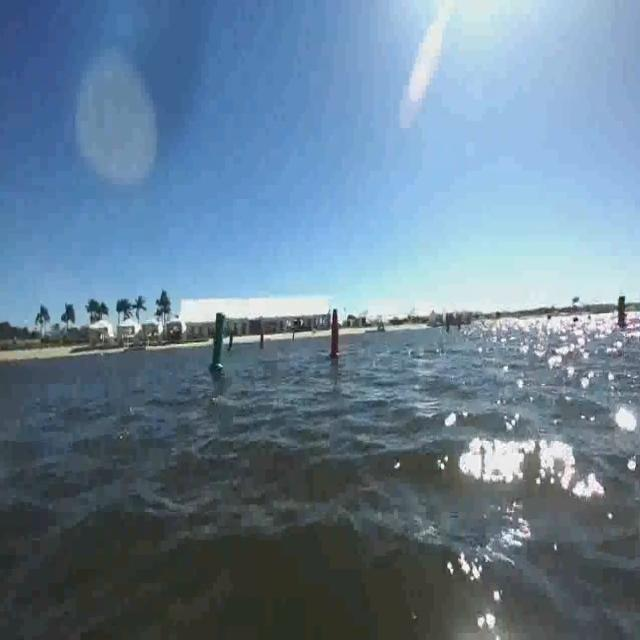green-column-buoy: (209, 308, 228, 372)
red-column-buoy: (328, 306, 342, 359)
